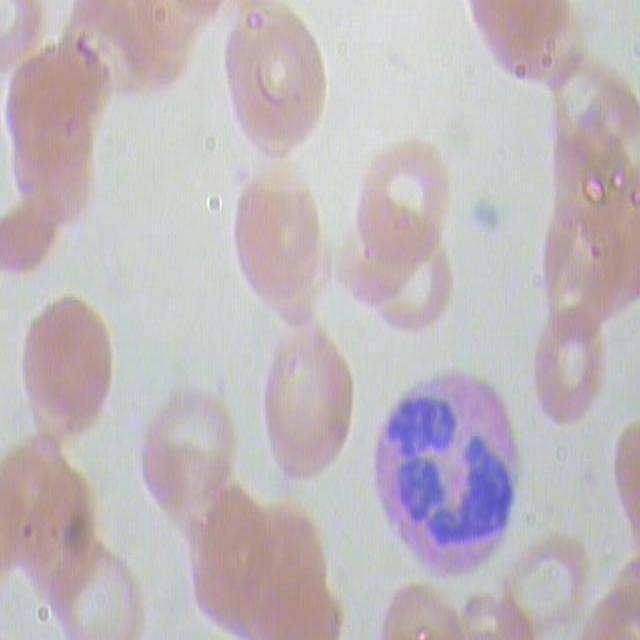Platelets: (469, 187, 508, 250)
RBC: (217, 0, 344, 155), (2, 289, 129, 444), (172, 493, 297, 639), (253, 330, 363, 490), (142, 370, 252, 530), (224, 156, 334, 316), (349, 132, 454, 283), (0, 36, 116, 168), (531, 195, 625, 346), (523, 311, 611, 437), (335, 204, 431, 313), (367, 239, 463, 348), (499, 538, 603, 638), (466, 0, 578, 88), (46, 541, 146, 639), (0, 180, 68, 288)
WBC: (359, 365, 542, 595)
